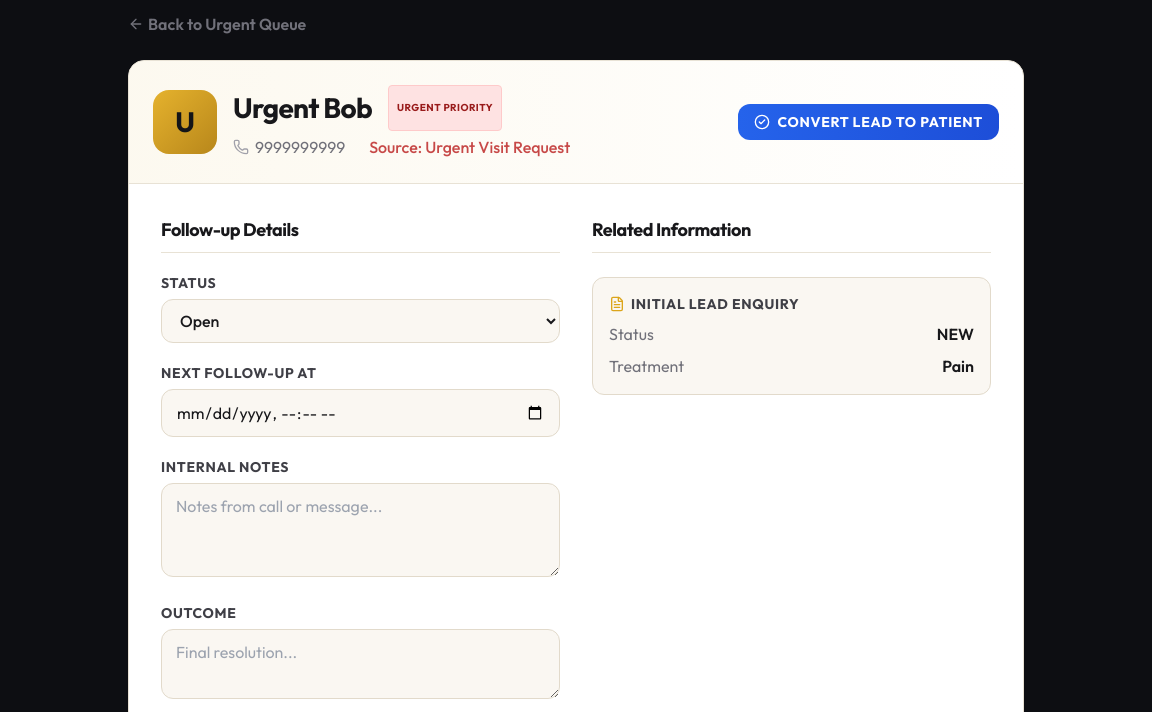
Scenario: handles lead conversion successfully
Click the button "Convert Lead to Patient": [868, 122] box [738, 104, 999, 140]
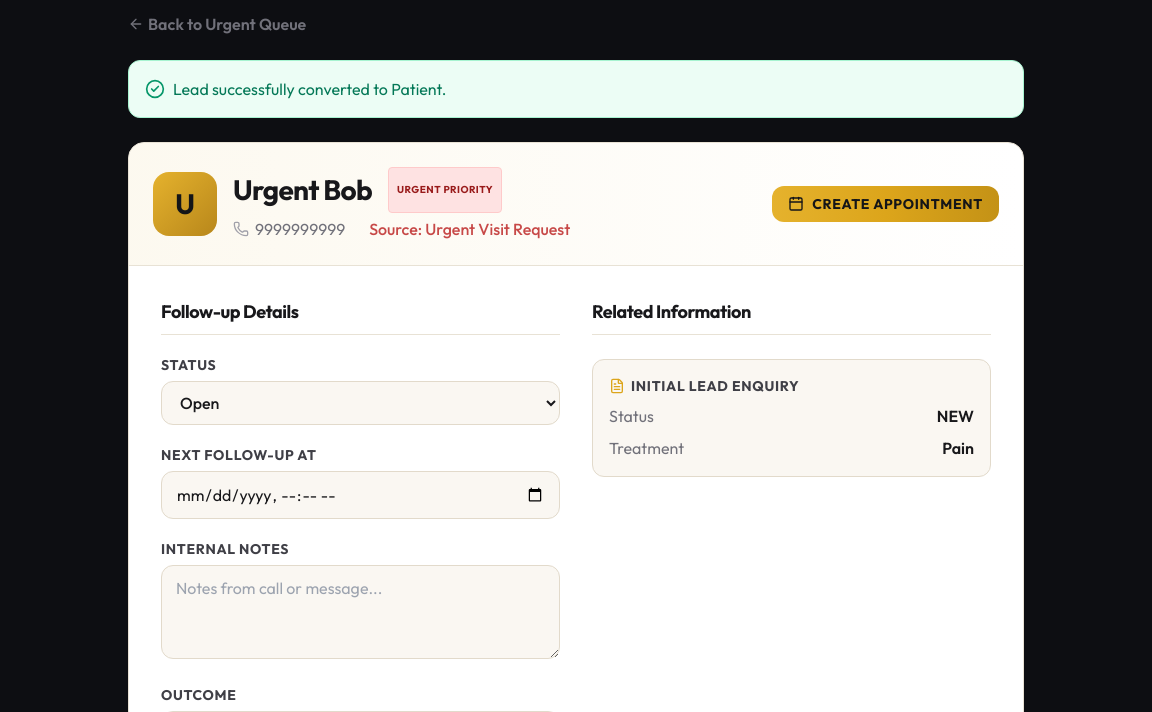
Now the text "Lead successfully converted to Patient." is shown, box [128, 60, 1024, 118]
Now the button "Convert Lead to Patient" is gone
Now the button "Create Appointment" is shown, box [772, 186, 999, 222]
